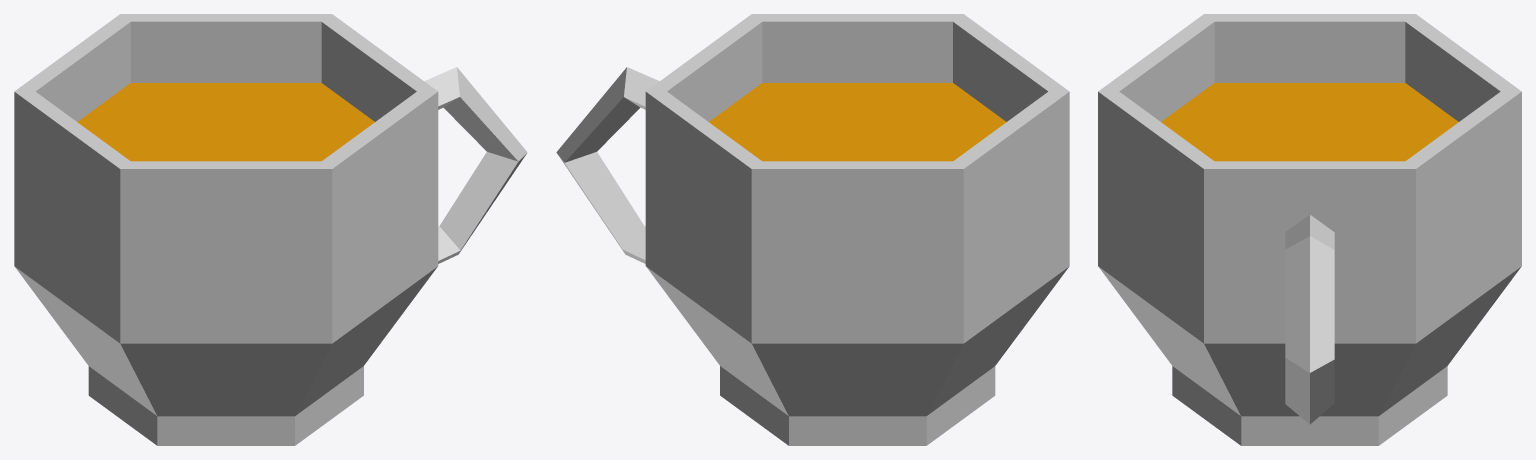
Rendered from Cup1Tea.fbx.
3 views of the same model, side by side, from view 1: azimuth 30°, elevation 25°; view 2: azimuth 150°, elevation 25°; view 3: azimuth 270°, elevation 25° (orthographic).
Visible parts, largest first — view 1: Cylinder; view 2: Cylinder; view 3: Cylinder.
Boxes of the visible parts, x1,y1,x2,y2 form: Cylinder: (14, 14, 527, 445); Cylinder: (556, 14, 1069, 445); Cylinder: (1098, 14, 1521, 445).
Bounding box in the file's own units: 0.2318 × 0.1463 × 0.1848.
